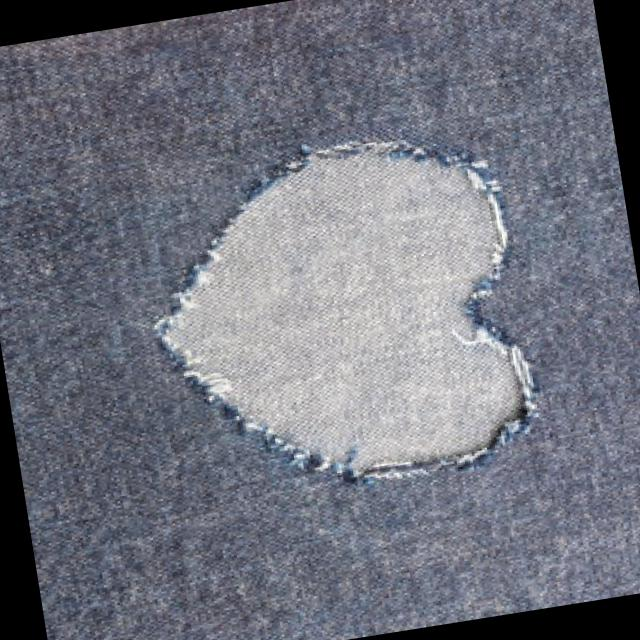hole: (116, 104, 567, 524)
